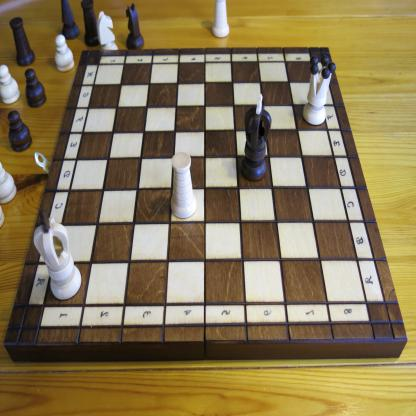black-bishop: (61, 0, 80, 40)
black-king: (241, 94, 272, 182)
black-knight: (125, 2, 145, 50)
black-pawn: (7, 109, 33, 153), (24, 67, 47, 109)
black-rook: (9, 17, 35, 66), (81, 0, 100, 47)
white-king: (33, 209, 82, 300)
white-knight: (97, 10, 119, 51)
white-pawn: (0, 64, 21, 106), (54, 34, 75, 74), (1, 161, 17, 206)
white-queen: (302, 54, 336, 126)
white-rook: (170, 150, 197, 219), (211, 0, 230, 39)
